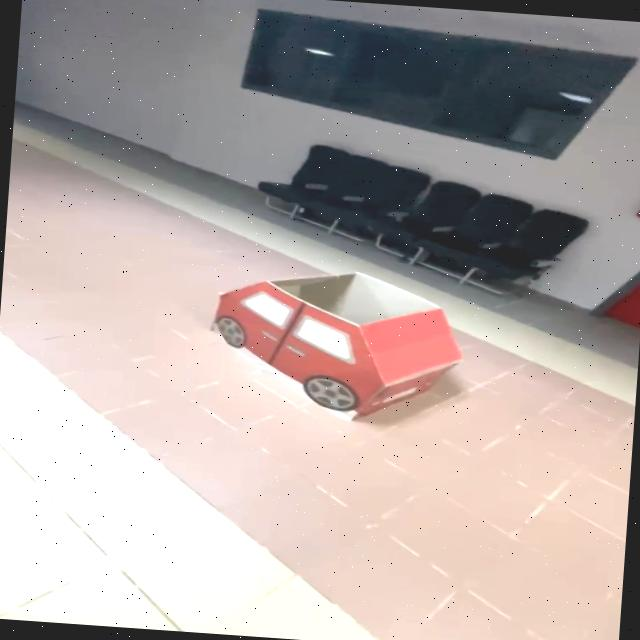red_car: (173, 242, 506, 457)
